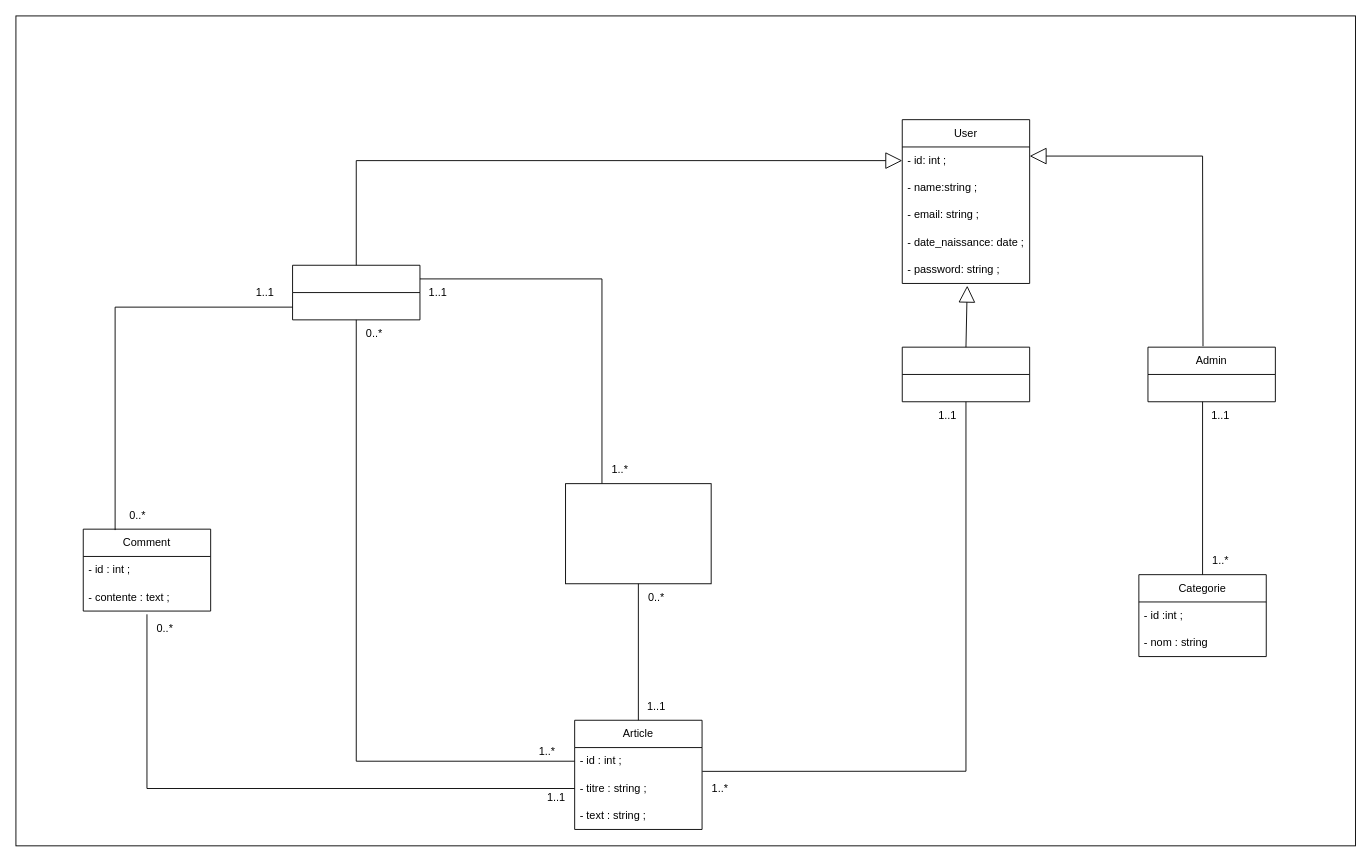
Some shapes in this 1371 by 862 pixel diagram are drawn without their labels. The centre of each missing label's shape, as x and y in pixels:
"Author" belongs at (x=965, y=374).
"like - id :int + like(): bool" belongs at (x=638, y=533).
"Reader" belongs at (x=356, y=292).
